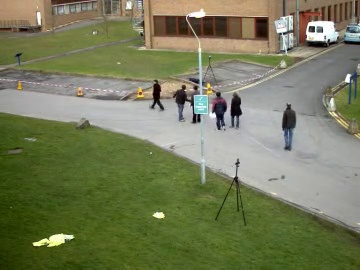person: (174, 83, 193, 121), (149, 78, 165, 111), (150, 78, 165, 113)
